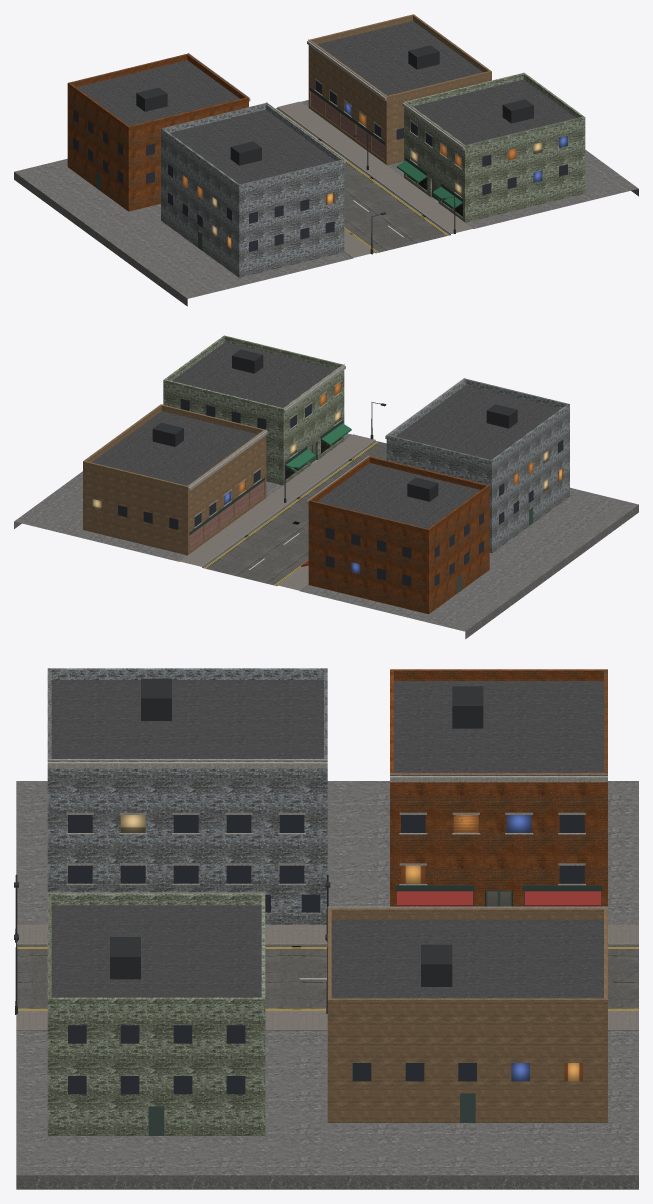
Rendered from street_segment.glb.
3 renders of one model, top to bottom at view 1: azimuth 30°, elevation 25°; view 2: azimuth 150°, elevation 25°; view 3: azimuth 270°, elevation 25°, orthographic. The views are drawn at different scales.
Visible parts, largest first — view 1: Facade_fill_W, Backlot_Ground, slot_E_Facade_slot_E, Roof_Felt, slot_W_Facade_slot_W, Facade_fill_E, slot_W_Roof_Felt, slot_E_Roof_Felt, Road_Asphalt, Sidewalk_Slab, Metal_Dark, Window_Dark (+12 smaller); view 2: slot_W_Facade_slot_W, Backlot_Ground, Roof_Felt, Facade_fill_E, Facade_fill_W, slot_E_Facade_slot_E, Road_Asphalt, slot_W_Roof_Felt, slot_E_Roof_Felt, Sidewalk_Slab, Metal_Dark, slot_W_Window_Dark (+11 smaller); view 3: Backlot_Ground, Roof_Felt, Facade_fill_E, Facade_fill_W, slot_E_Facade_slot_E, slot_W_Facade_slot_W, slot_E_Roof_Felt, slot_W_Roof_Felt, Road_Asphalt, Window_Dark, Trim_Stone, Sidewalk_Slab (+10 smaller).
Part boxes in pixels (x1,y1,x2,y2): Facade_fill_W: (161,103,344,277); Backlot_Ground: (14,100,638,306); slot_E_Facade_slot_E: (404,72,585,222); Roof_Felt: (170,21,482,184); slot_W_Facade_slot_W: (67,53,248,211); Facade_fill_E: (308,14,491,165); slot_W_Roof_Felt: (77,60,239,125); slot_E_Roof_Felt: (413,79,575,144); Road_Asphalt: (276,108,450,253); Sidewalk_Slab: (278,101,473,258); Metal_Dark: (230,45,455,254); Window_Dark: (168,80,403,252); slot_W_Facade_slot_W: (308,456,489,614); Backlot_Ground: (14,433,638,639); Roof_Felt: (92,385,561,485); Facade_fill_E: (83,404,266,555); Facade_fill_W: (386,378,569,553); slot_E_Facade_slot_E: (163,335,344,485); Road_Asphalt: (202,441,386,585); slot_W_Roof_Felt: (317,463,480,528); slot_E_Roof_Felt: (172,342,335,407); Sidewalk_Slab: (179,434,374,590); Metal_Dark: (152,402,517,502); slot_W_Window_Dark: (325,512,483,586); Backlot_Ground: (16,781,638,1189); Roof_Felt: (51,680,603,998); Facade_fill_E: (327,908,607,1122); Facade_fill_W: (47,668,327,924); slot_E_Facade_slot_E: (47,894,265,1135); slot_W_Facade_slot_W: (390,669,607,906); slot_E_Roof_Felt: (51,905,261,997); slot_W_Roof_Felt: (394,681,603,772); Road_Asphalt: (17,946,638,1009); Window_Dark: (68,815,476,1081); Trim_Stone: (47,759,607,913); Sidewalk_Slab: (16,924,638,1030).
Bounding box in the file's own units: 60 × 13.6 × 40.16.
24 materials, 14 textured.
